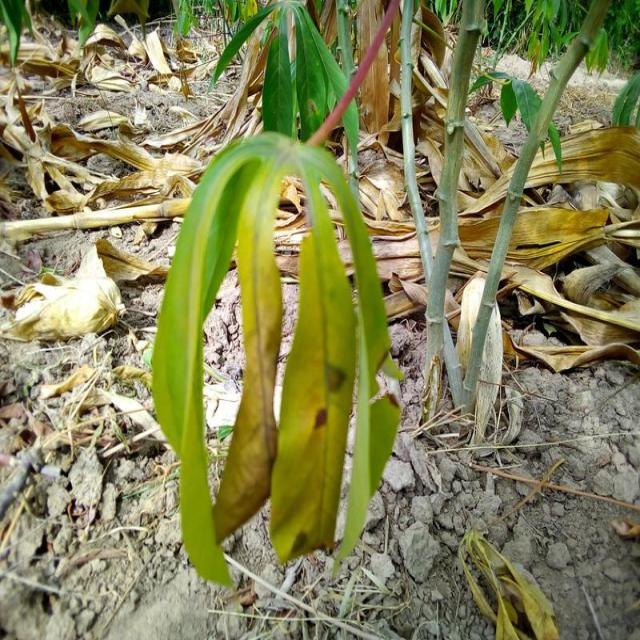cassava leaf: (152, 126, 403, 585)
